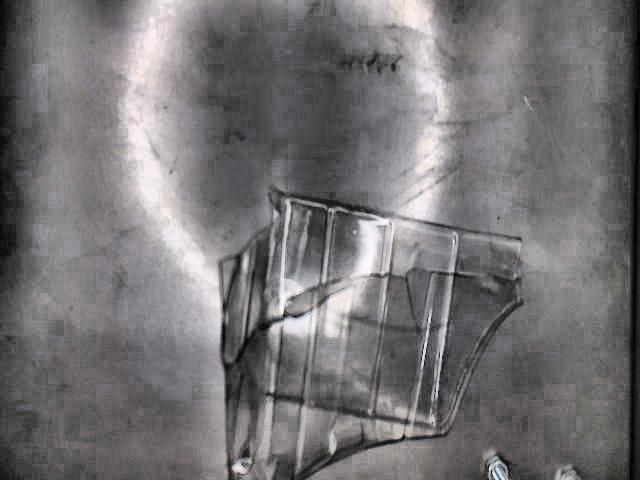Plastic: (221, 187, 529, 480)
